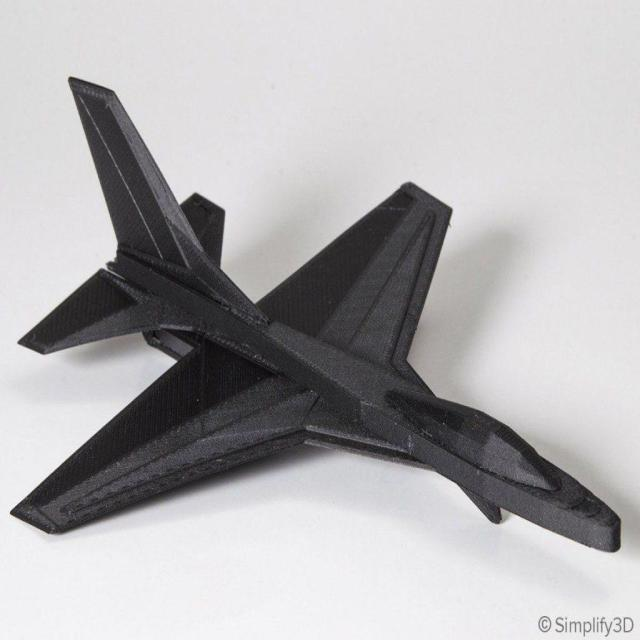Without deffect: (15, 69, 630, 579)
